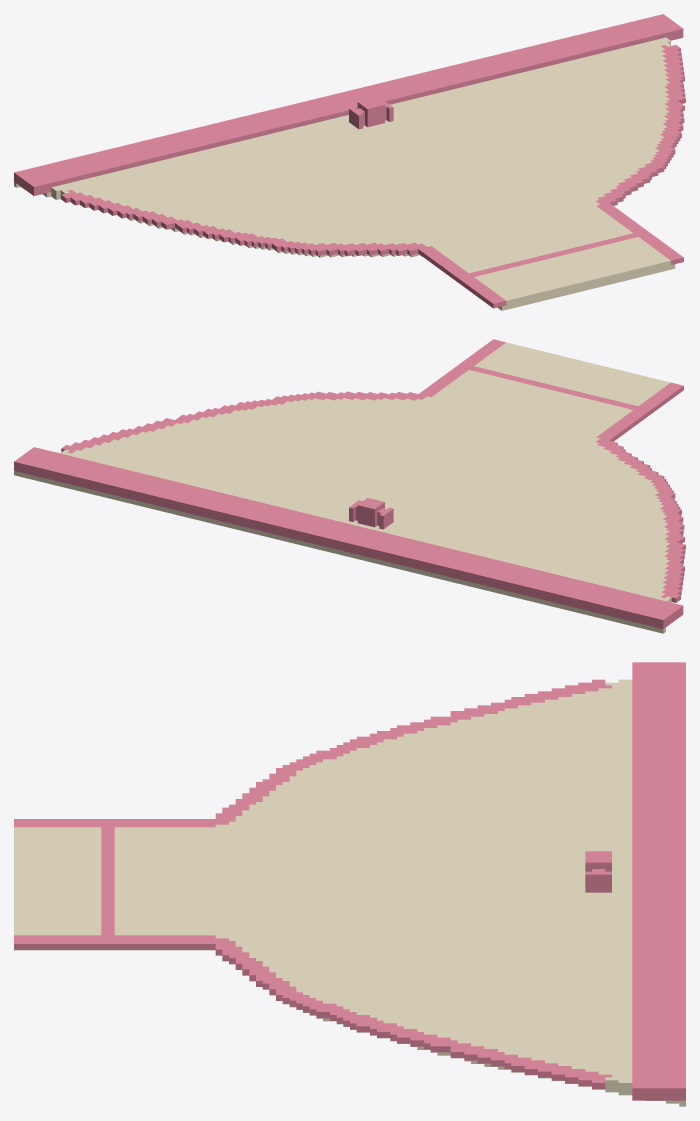
File: panties.glb
3 renders of one model, top to bottom at view 1: azimuth 30°, elevation 25°; view 2: azimuth 150°, elevation 25°; view 3: azimuth 270°, elevation 25°, orthographic. The views are drawn at different scales.
Parts seen in each view (by area): view 1: panties:compound; view 2: panties:compound; view 3: panties:compound.
Part boxes in pixels (<box>): panties:compound: <box>14,14,685,310</box>; panties:compound: <box>14,339,685,633</box>; panties:compound: <box>14,662,685,1106</box>.
Size of the model in its own units: 0.3 by 0.012 by 0.2.
